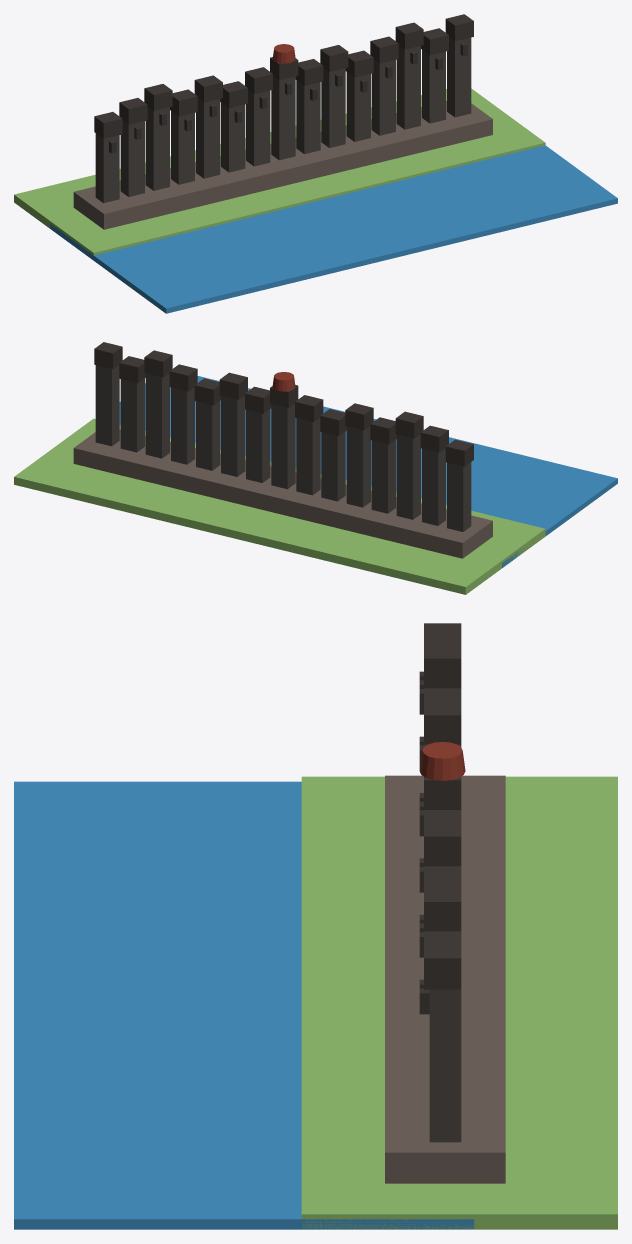
Rendered from ahu-tongariki.glb.
3 views of the same model, one above another, from view 1: azimuth 30°, elevation 25°; view 2: azimuth 150°, elevation 25°; view 3: azimuth 270°, elevation 25° (orthographic). The views are drawn at different scales.
Visible parts, largest first — view 1: ahu-tongariki; view 2: ahu-tongariki; view 3: ahu-tongariki.
Part boxes in pixels (box(x1,y1,x2,y2)): ahu-tongariki: box(14, 14, 617, 313); ahu-tongariki: box(14, 342, 617, 594); ahu-tongariki: box(14, 623, 617, 1229).
Size of the model in its own units: 3.6 by 1 by 2.1.
